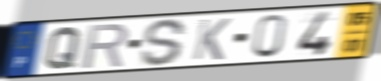0: (252, 13, 289, 60)
4: (294, 9, 333, 58)
K: (190, 17, 233, 62)
Q: (42, 25, 84, 71)
R: (80, 22, 131, 70)
S: (139, 17, 189, 68)
